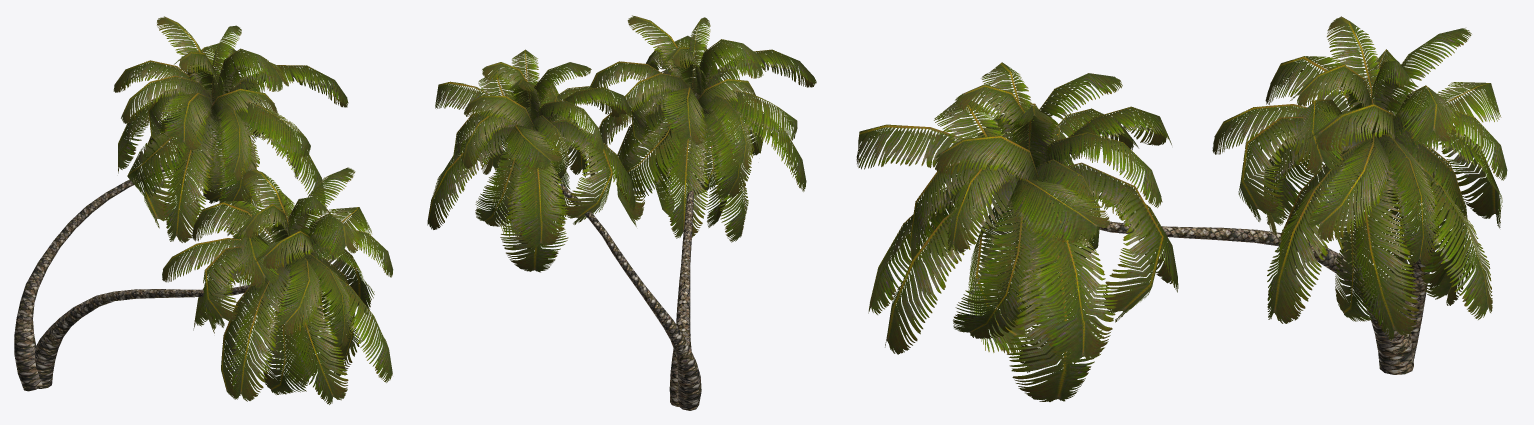
The model's file is tree_palm_tropical_03.dae.
3 views of the same model, side by side, from view 1: azimuth 30°, elevation 25°; view 2: azimuth 150°, elevation 25°; view 3: azimuth 270°, elevation 25° (orthographic). The views are drawn at different scales.
Parts seen in each view (by area): view 1: palm_dual_bend; view 2: palm_dual_bend; view 3: palm_dual_bend.
Boxes of the visible parts, box(x1,y1,x2,y2) form: palm_dual_bend: box(14, 16, 393, 404); palm_dual_bend: box(427, 15, 816, 410); palm_dual_bend: box(856, 16, 1507, 401).
Size of the model in its own units: 15.57 by 15.63 by 21.28.
